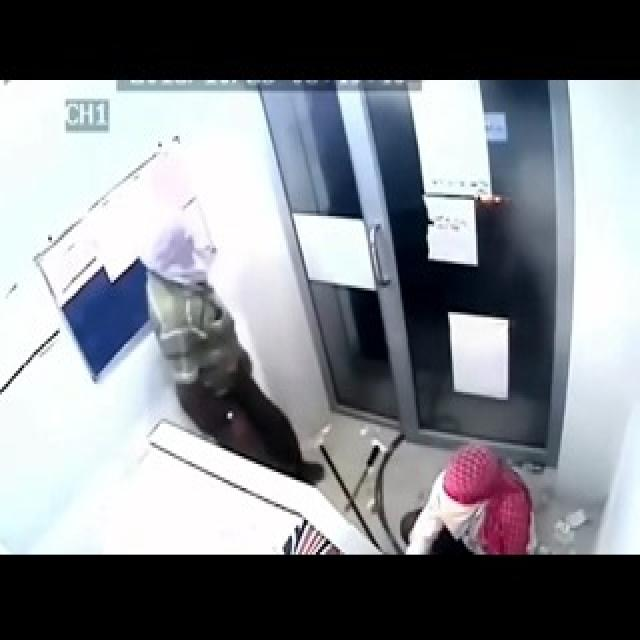thief: (131, 210, 327, 490), (408, 427, 532, 553)
